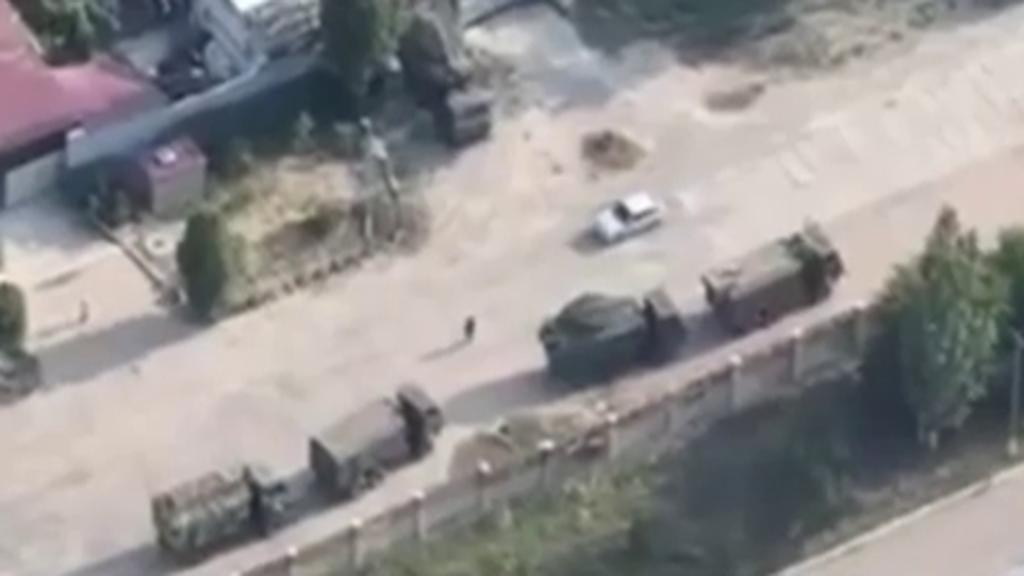CAR: (590, 187, 666, 240)
TRUCK: (700, 220, 848, 346), (306, 379, 442, 500), (150, 457, 290, 571), (536, 283, 684, 389)
